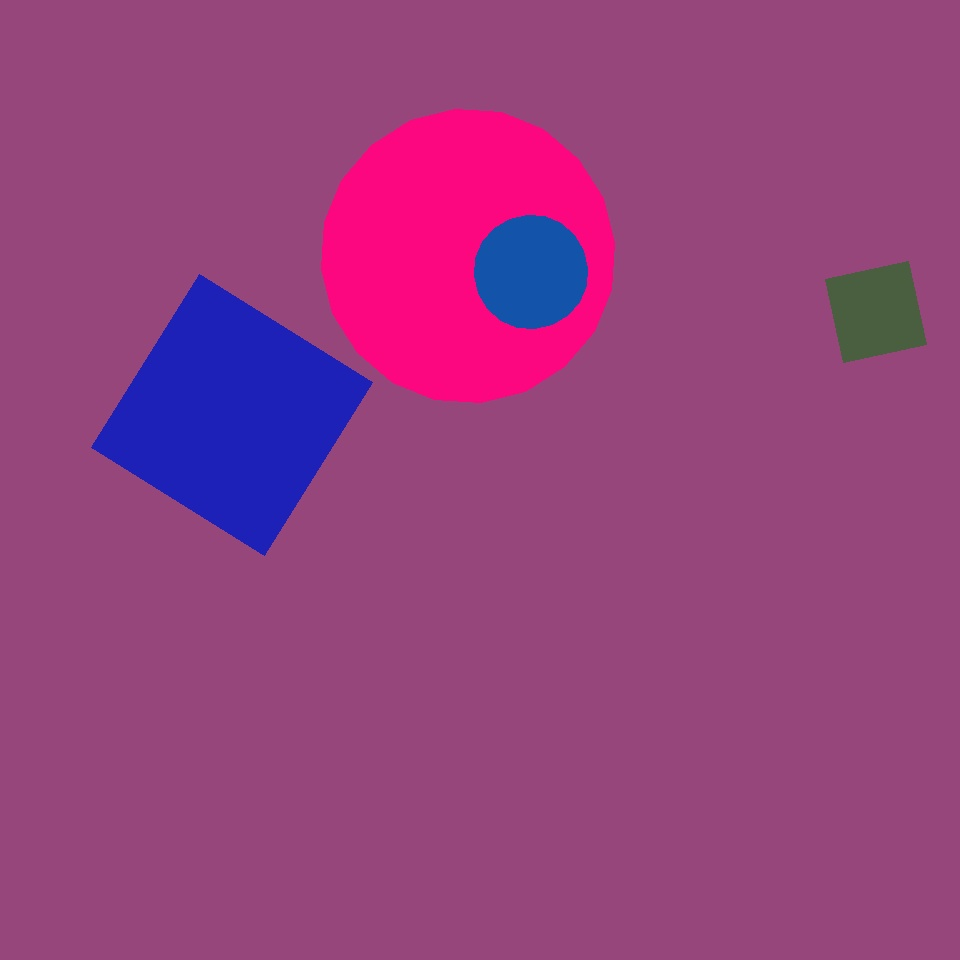square: (92, 274, 373, 556), (826, 262, 926, 362)
triangle: (321, 109, 614, 403), (474, 216, 588, 328)
